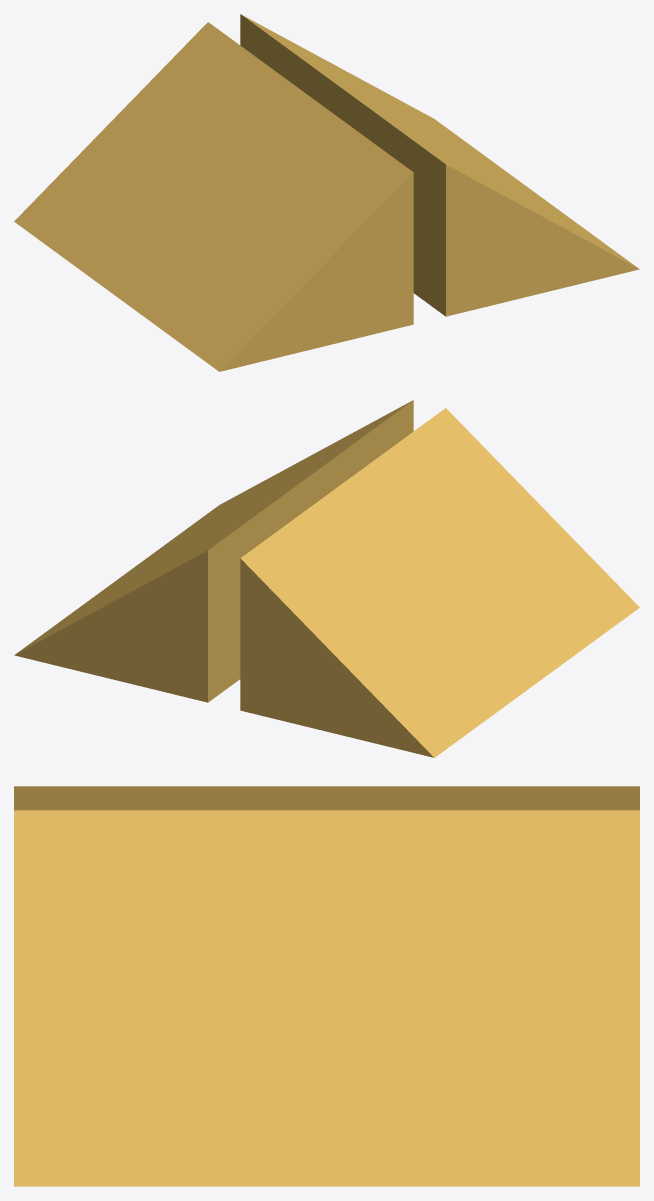
File: env_carrier_chock.fbx
3 views of the same model, one above another, from view 1: azimuth 30°, elevation 25°; view 2: azimuth 150°, elevation 25°; view 3: azimuth 270°, elevation 25° (orthographic). The views are drawn at different scales.
Parts seen in each view (by area): view 1: env_carrier_chock; view 2: env_carrier_chock; view 3: env_carrier_chock.
Boxes of the visible parts, x1,y1,x2,y2 form: env_carrier_chock: (14,14,639,371); env_carrier_chock: (14,400,639,757); env_carrier_chock: (14,786,639,1186).
Size of the model in its own units: 260 by 90 by 220.
